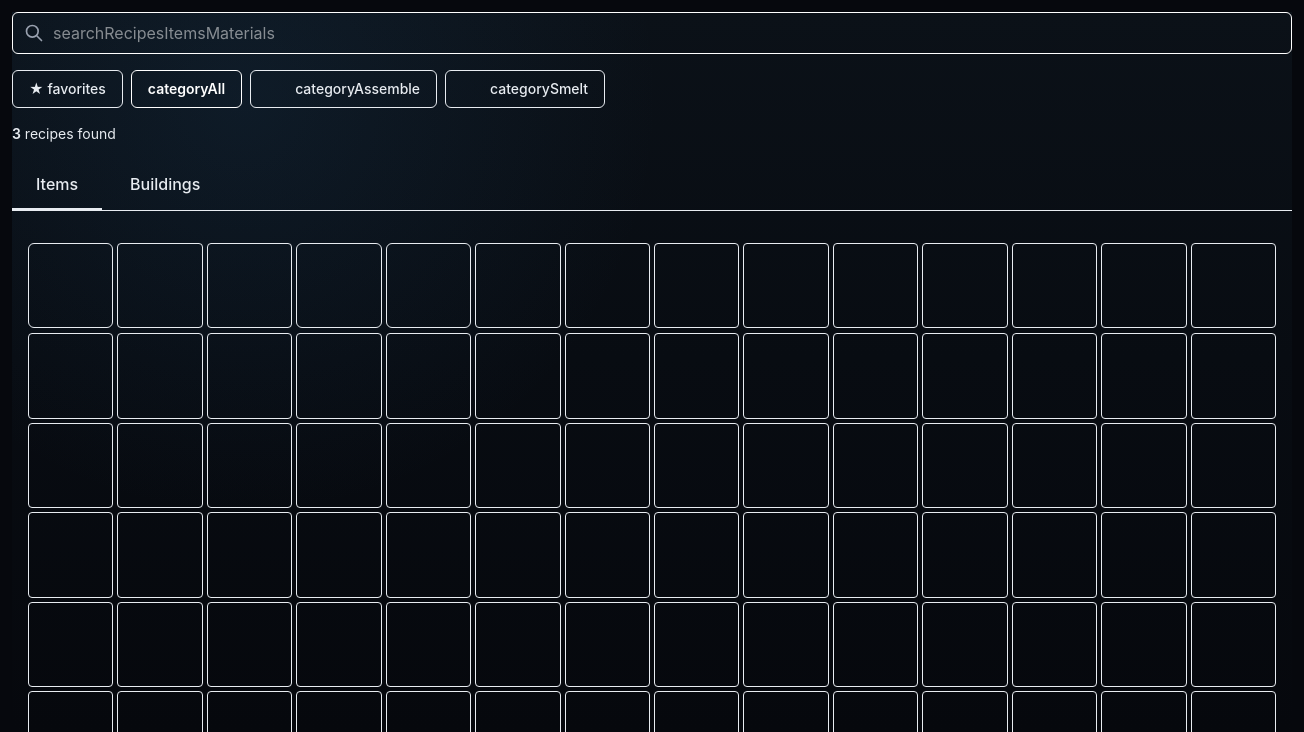
Test: RecipeSelector › 検索クエリをクリアできる
# 検索テキストを入力
Type "iron" into the field with placeholder "searchRecipesItemsMaterials" at (652, 33), box [12,12,1292,54]
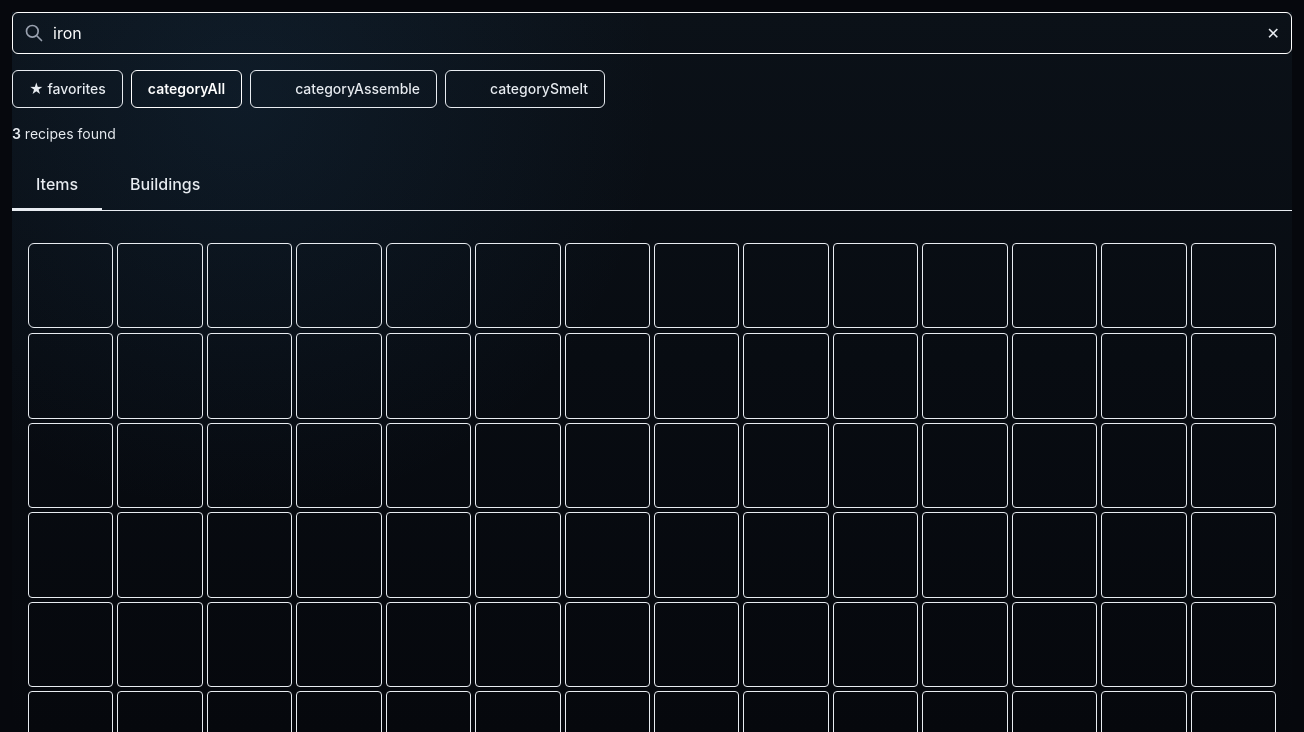
# クリアボタンをクリック
Click the button named "clear" at (1273, 33), box [1267,21,1280,45]
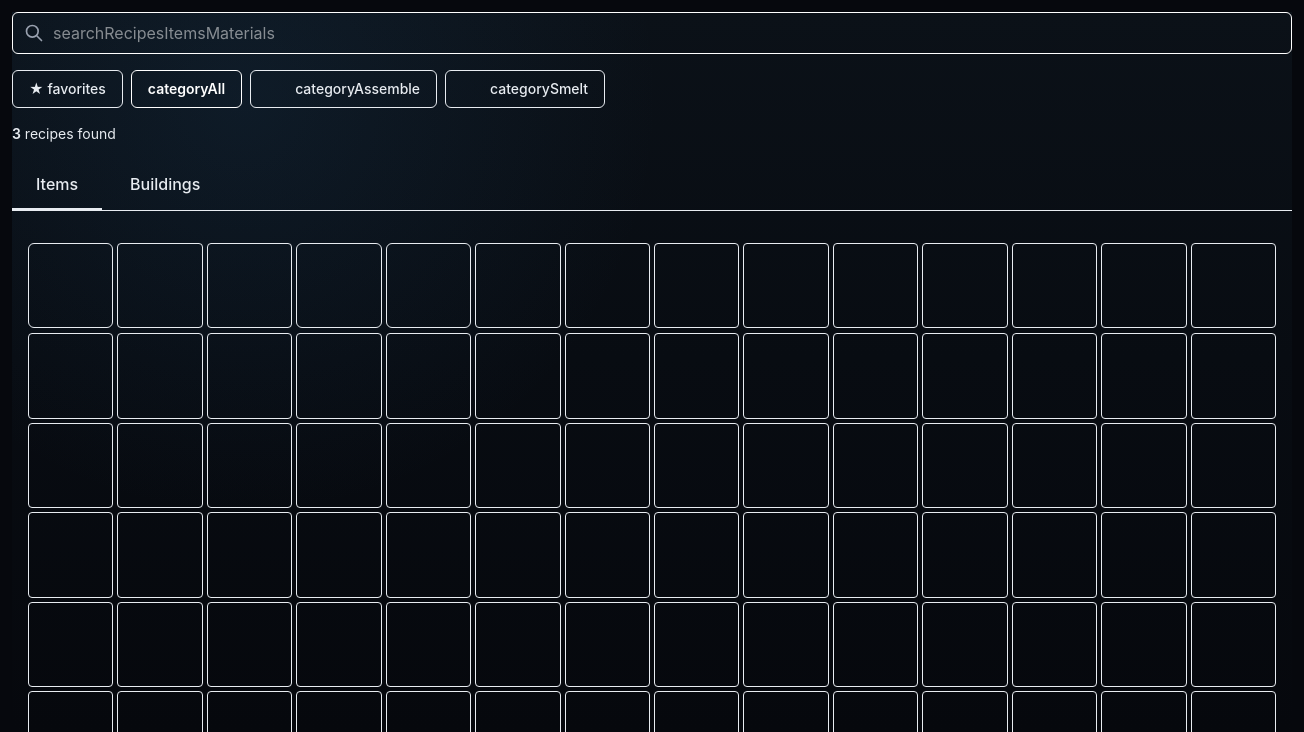
Expected: the field with placeholder "searchRecipesItemsMaterials" is empty, [12,12,1292,54]
